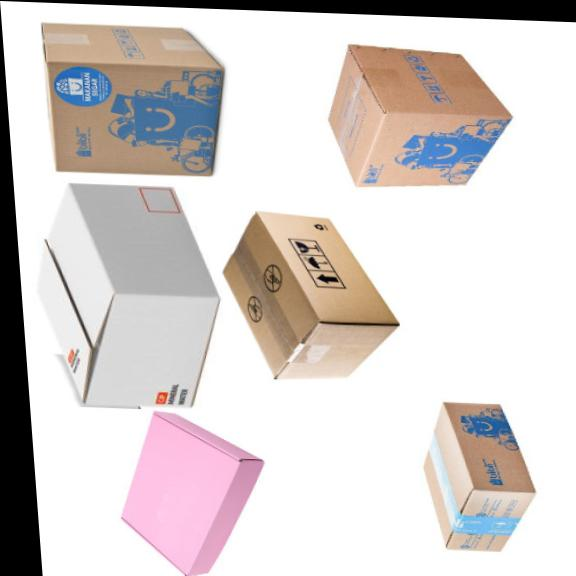Kertas: (38, 183, 218, 407), (223, 211, 398, 378), (42, 23, 223, 175), (330, 44, 510, 185), (122, 411, 263, 574), (423, 402, 535, 550)
